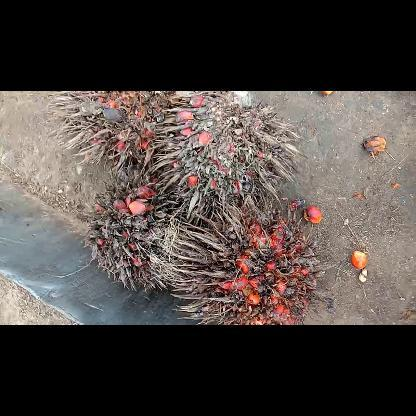Terlalu masak: (166, 190, 330, 324), (146, 91, 308, 225), (80, 162, 206, 296), (42, 91, 178, 169)
